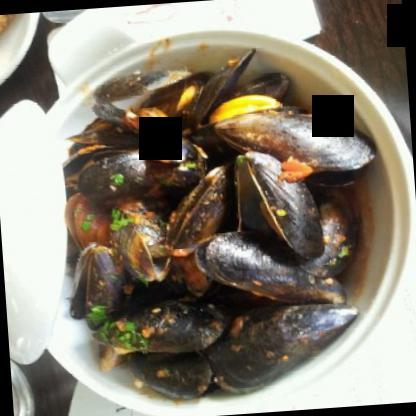mussel: (192, 226, 346, 316), (207, 304, 358, 390), (217, 100, 383, 172), (232, 152, 313, 260)
